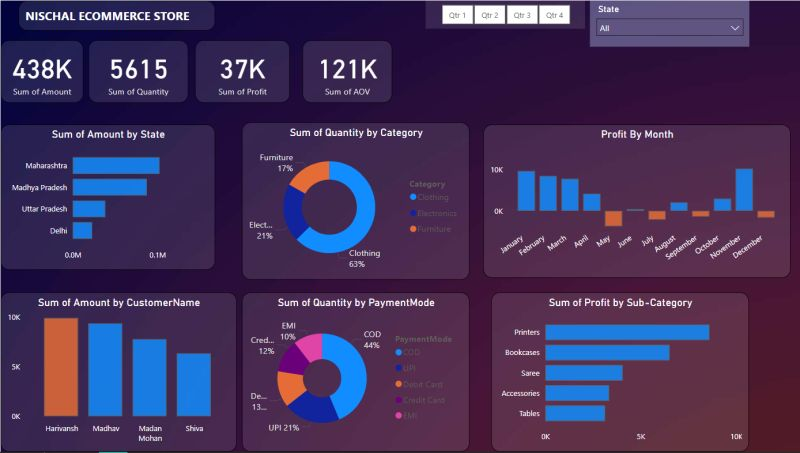

This screenshot's page, from the dashboard's own definition file:
{"tool":"powerbi","page":{"name":"Page 1","canvas":[1280,720],"ordinal":0},"visuals":[{"type":"textbox","box":[28.9,0,313.3,47.8],"z":0},{"type":"columnChart","title":"Profit By Month","fields":{"Category":["Orders.Order Date.Variation.Date Hierarchy.Month"],"Y":["Details.Profit"]},"box":[770,197.8,490,244.4],"z":1000},{"type":"barChart","fields":{"Category":["Details.Sub-Category"],"Y":["Details.Profit"]},"box":[782.8,465.5,411.5,254],"z":2000},{"type":"donutChart","fields":{"Category":["Details.Category"],"Y":["Details.Quantity"]},"box":[385.6,194.4,363.3,251.1],"z":3000},{"type":"donutChart","fields":{"Category":["Details.PaymentMode"],"Y":["Details.Quantity"]},"box":[385.6,465.6,363.3,254.4],"z":4000},{"type":"card","fields":{"Values":["Details.Amount"]},"box":[0,63.3,132.2,100],"z":5000},{"type":"card","fields":{"Values":["Details.Quantity"]},"box":[140,63.3,158.9,100],"z":6000},{"type":"card","fields":{"Values":["Details.Profit"]},"box":[310,63.3,151.1,100],"z":7000},{"type":"card","fields":{"Values":["Details.AOV"]},"box":[481.1,63.3,143.3,100],"z":8000},{"type":"barChart","fields":{"Y":["Details.Amount"],"Category":["Orders.State"]},"box":[0,197.7,342.5,232.2],"z":9000},{"type":"columnChart","fields":{"Category":["Orders.CustomerName"],"Y":["Details.Amount"]},"box":[0,465.6,376.7,254.4],"z":10000},{"type":"slicer","fields":{"Values":["Orders.Order Date.Variation.Date Hierarchy.Quarter"]},"box":[677.8,0,254.4,44.4],"z":11000},{"type":"slicer","fields":{"Values":["Orders.State"]},"box":[940,0,254.4,73.3],"z":12000}]}

Visuals, with their boxes in screenshot pixels (x1, y1, x2, y2), scaled from the page's 1280x720 canvas onto the 800x453 screenshot:
textbox: 18/0/214/30
"Profit By Month" columnChart: 481/124/788/278
barChart - Details.Sub-Category x Details.Profit: 489/293/746/452
donutChart - Details.Category x Details.Quantity: 241/122/468/280
donutChart - Details.PaymentMode x Details.Quantity: 241/293/468/452
card - Details.Amount: 0/40/83/103
card - Details.Quantity: 88/40/187/103
card - Details.Profit: 194/40/288/103
card - Details.AOV: 301/40/390/103
barChart - Details.Amount x Orders.State: 0/124/214/270
columnChart - Orders.CustomerName x Details.Amount: 0/293/235/452
slicer - Orders.Order Date.Variation.Date Hierarchy.Quarter: 424/0/583/28
slicer - Orders.State: 588/0/746/46
